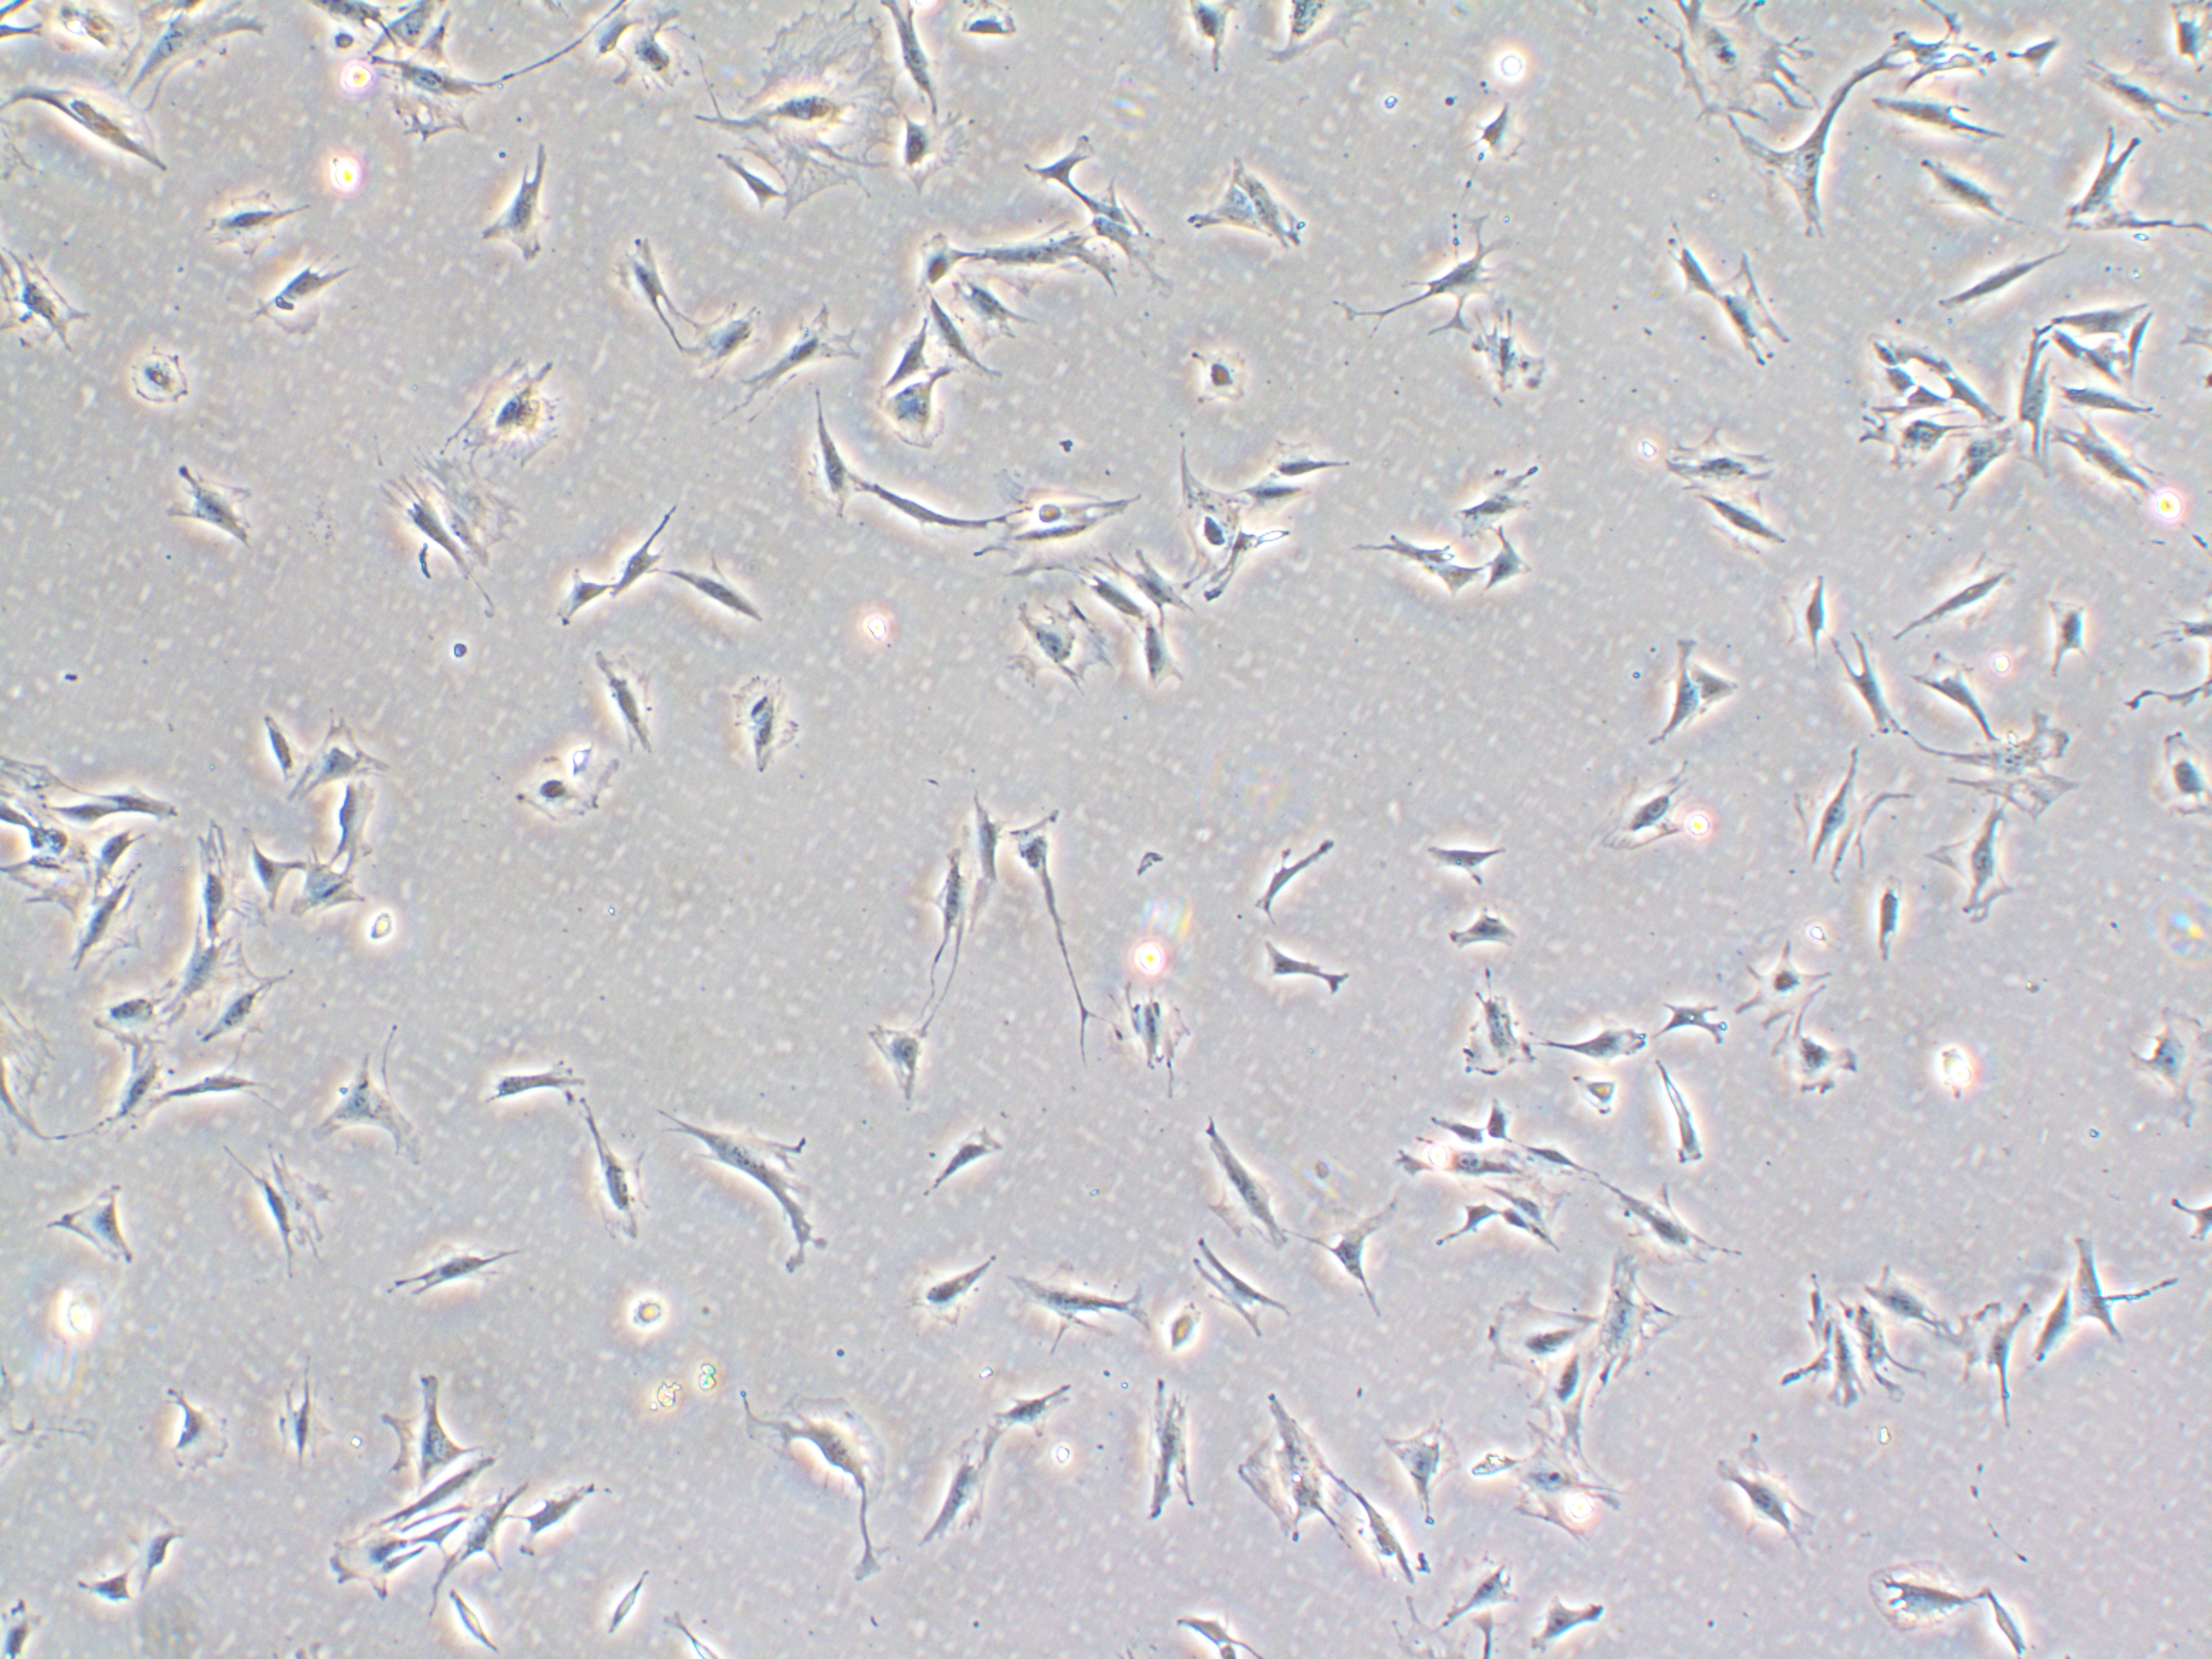small: (1919, 1035, 2006, 1133), (1172, 333, 1256, 416), (604, 1265, 683, 1345), (345, 896, 420, 950), (1155, 1286, 1214, 1354)
spread: (707, 9, 904, 211), (314, 457, 542, 596), (1480, 1424, 1642, 1556), (968, 465, 1130, 594), (1768, 1274, 1902, 1429), (1655, 0, 1811, 131), (1157, 430, 1268, 606), (1928, 709, 2097, 816), (1599, 1244, 1698, 1419), (1233, 1389, 1338, 1554), (1487, 1279, 1606, 1424), (364, 24, 486, 148), (171, 810, 272, 951), (152, 920, 263, 1047), (44, 861, 157, 985), (448, 343, 554, 458)
